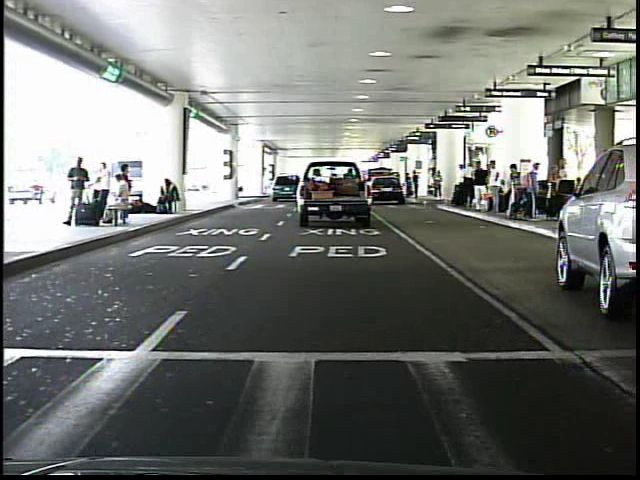person: (69, 155, 94, 229), (468, 158, 491, 219), (453, 159, 473, 211), (487, 159, 504, 217), (433, 166, 449, 206), (403, 170, 414, 202), (412, 170, 422, 203)
